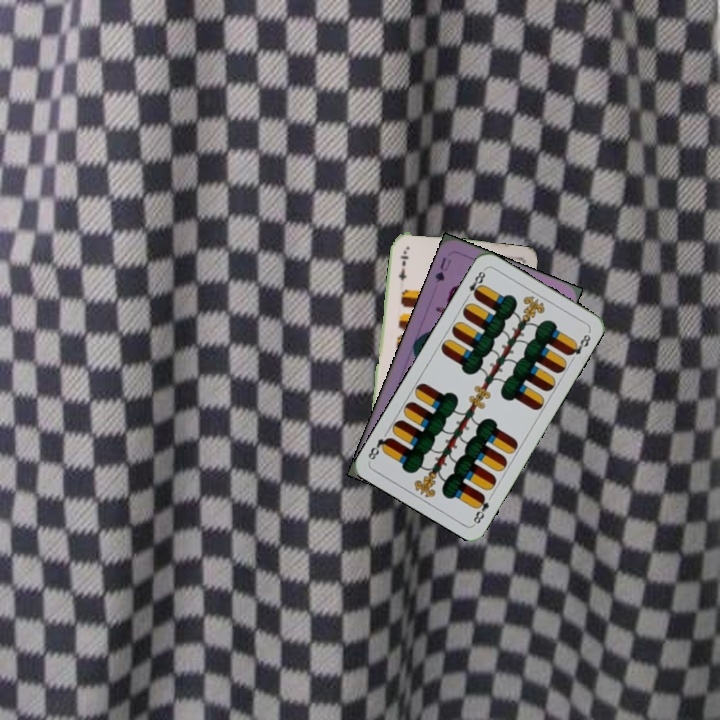E7: (394, 247, 411, 283)
E8: (469, 489, 496, 527), (462, 265, 488, 302)
GU: (431, 253, 453, 285)
